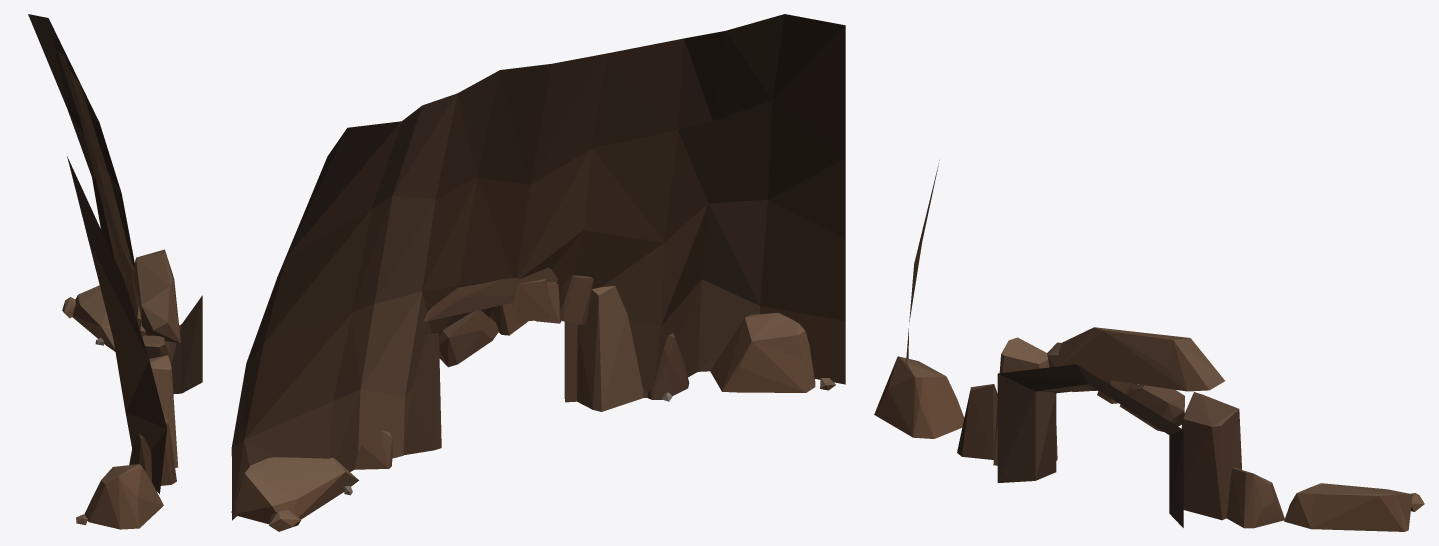
File: tl_cave_main_wall_05_v01.glb
3 renders of one model, left to right at view 1: azimuth 30°, elevation 25°; view 2: azimuth 150°, elevation 25°; view 3: azimuth 270°, elevation 25°, orthographic. The views are drawn at different scales.
Parts seen in each view (by area): view 1: tl_cave_main_wall_05_v01; view 2: tl_cave_main_wall_05_v01; view 3: tl_cave_main_wall_05_v01.
Part boxes in pixels (bbox=[...]): tl_cave_main_wall_05_v01: bbox=[28, 14, 202, 529]; tl_cave_main_wall_05_v01: bbox=[231, 14, 845, 531]; tl_cave_main_wall_05_v01: bbox=[874, 160, 1424, 531].
Size of the model in its own units: 14.8 by 15.23 by 21.01.
